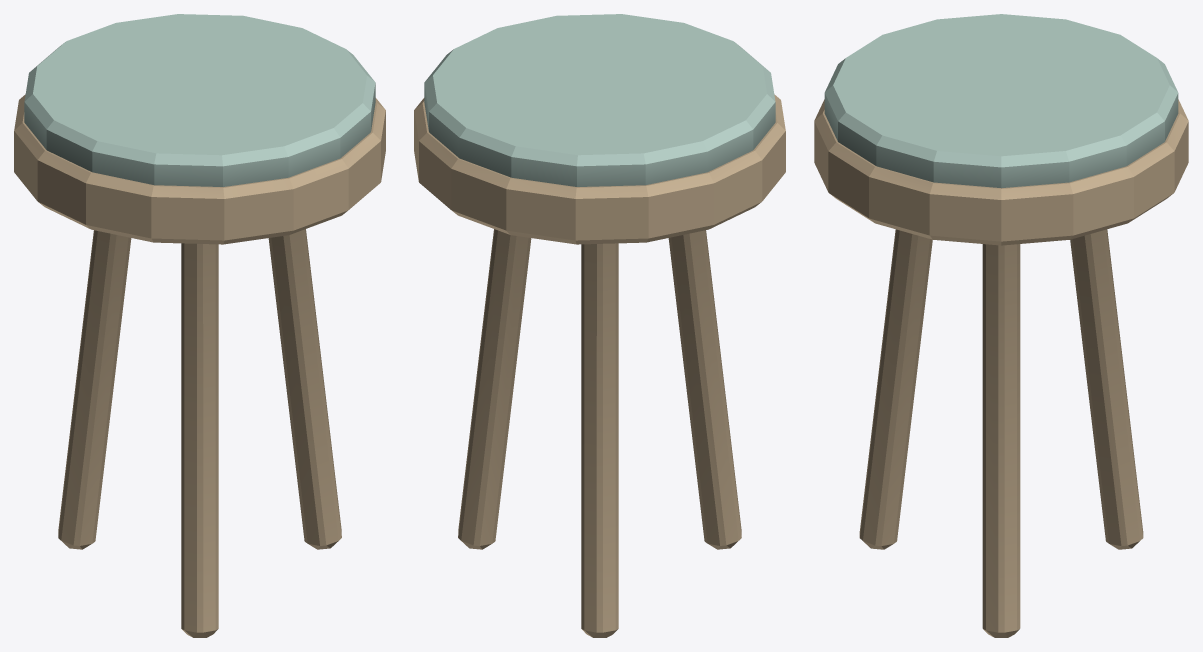
Rendered from furn_stool__oak.glb.
The picture shows the model from 3 angles, left to right: view 1: azimuth 30°, elevation 25°; view 2: azimuth 150°, elevation 25°; view 3: azimuth 270°, elevation 25°; orthographic projection.
Bounding box in the file's own units: 0.36 × 0.5197 × 0.36.
